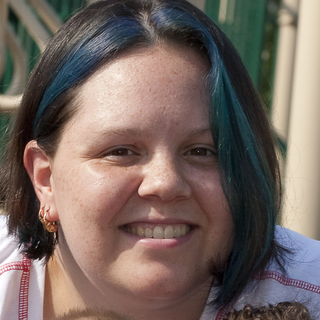eye: (94, 140, 143, 165), (177, 140, 219, 164)
